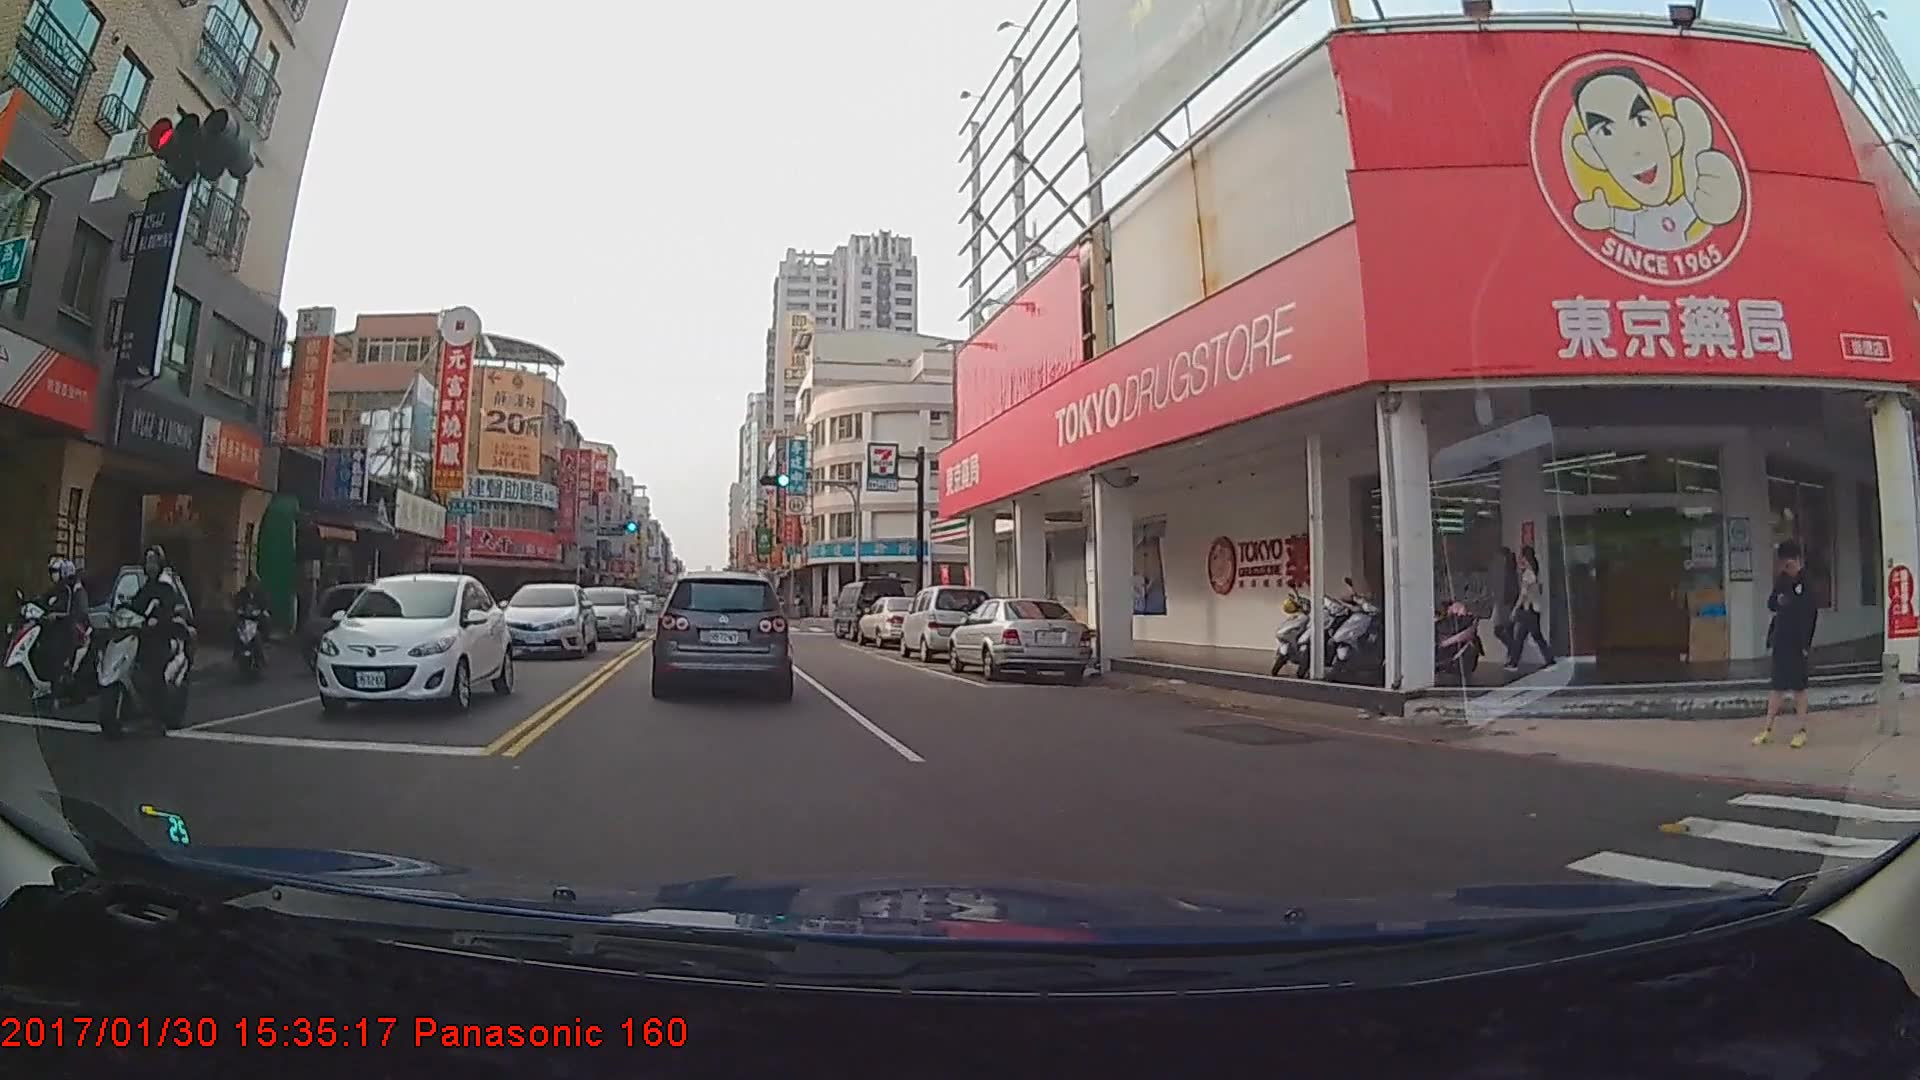pedestrian: (1750, 541, 1822, 748), (1500, 542, 1551, 678), (1493, 546, 1529, 665)
rider: (87, 547, 201, 741), (4, 559, 118, 711), (230, 564, 274, 684)
vehicle: (315, 571, 513, 715), (0, 562, 197, 697), (657, 572, 788, 699), (945, 594, 1091, 685), (496, 581, 596, 658), (896, 586, 992, 663), (836, 582, 901, 640), (857, 597, 932, 644), (572, 587, 634, 641)
